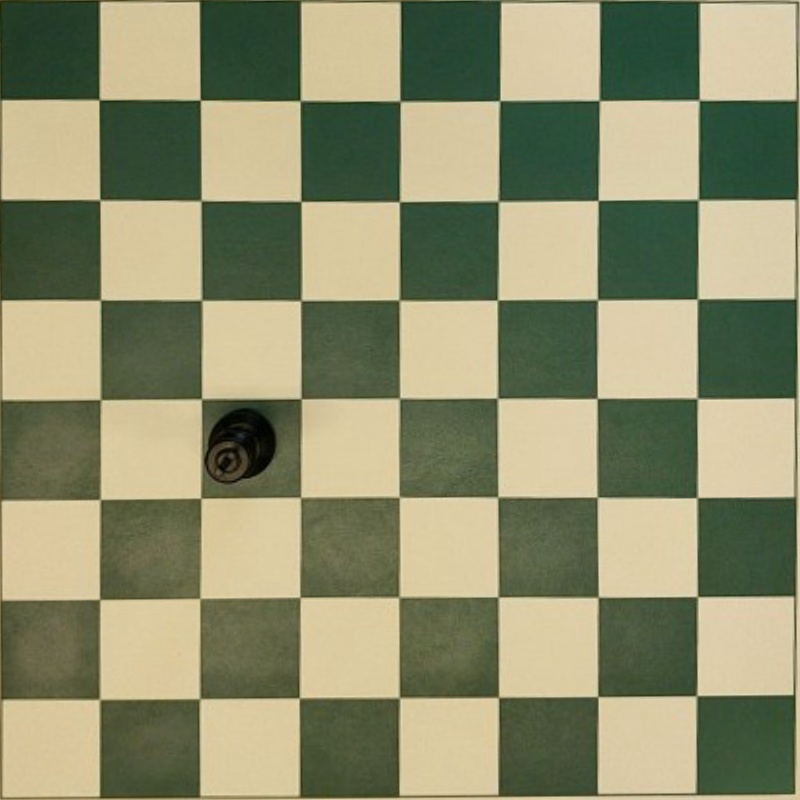black-king: (203, 407, 276, 484)
